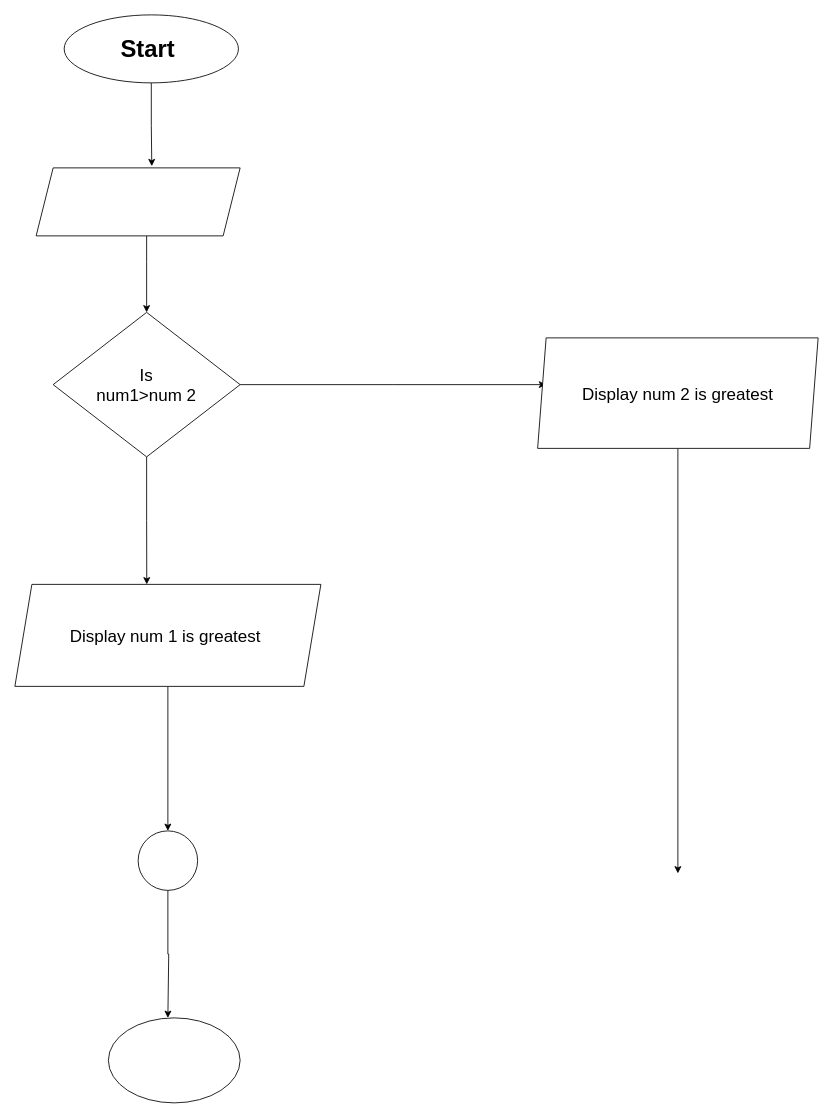
The diagram is 833 pixels wide and 1118 high, and some of its shapes have lost their labels. Here are the shapes that lost their labels. From the top down, the box of each, then its label:
(35, 167, 240, 236): input num1 & num 2
(108, 1017, 240, 1103): End
